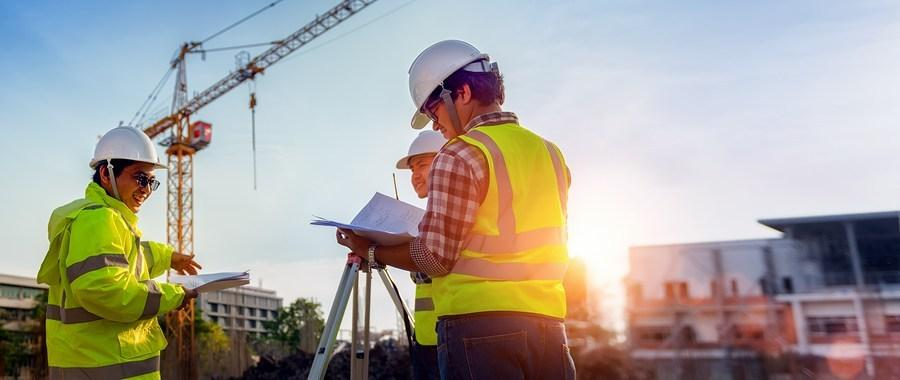helmet: (411, 41, 507, 115), (89, 129, 164, 170), (394, 128, 460, 172)
